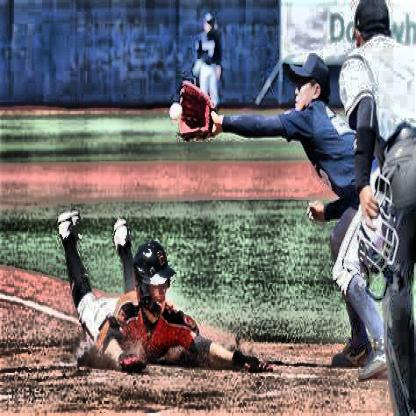baseball: (170, 102, 183, 124)
